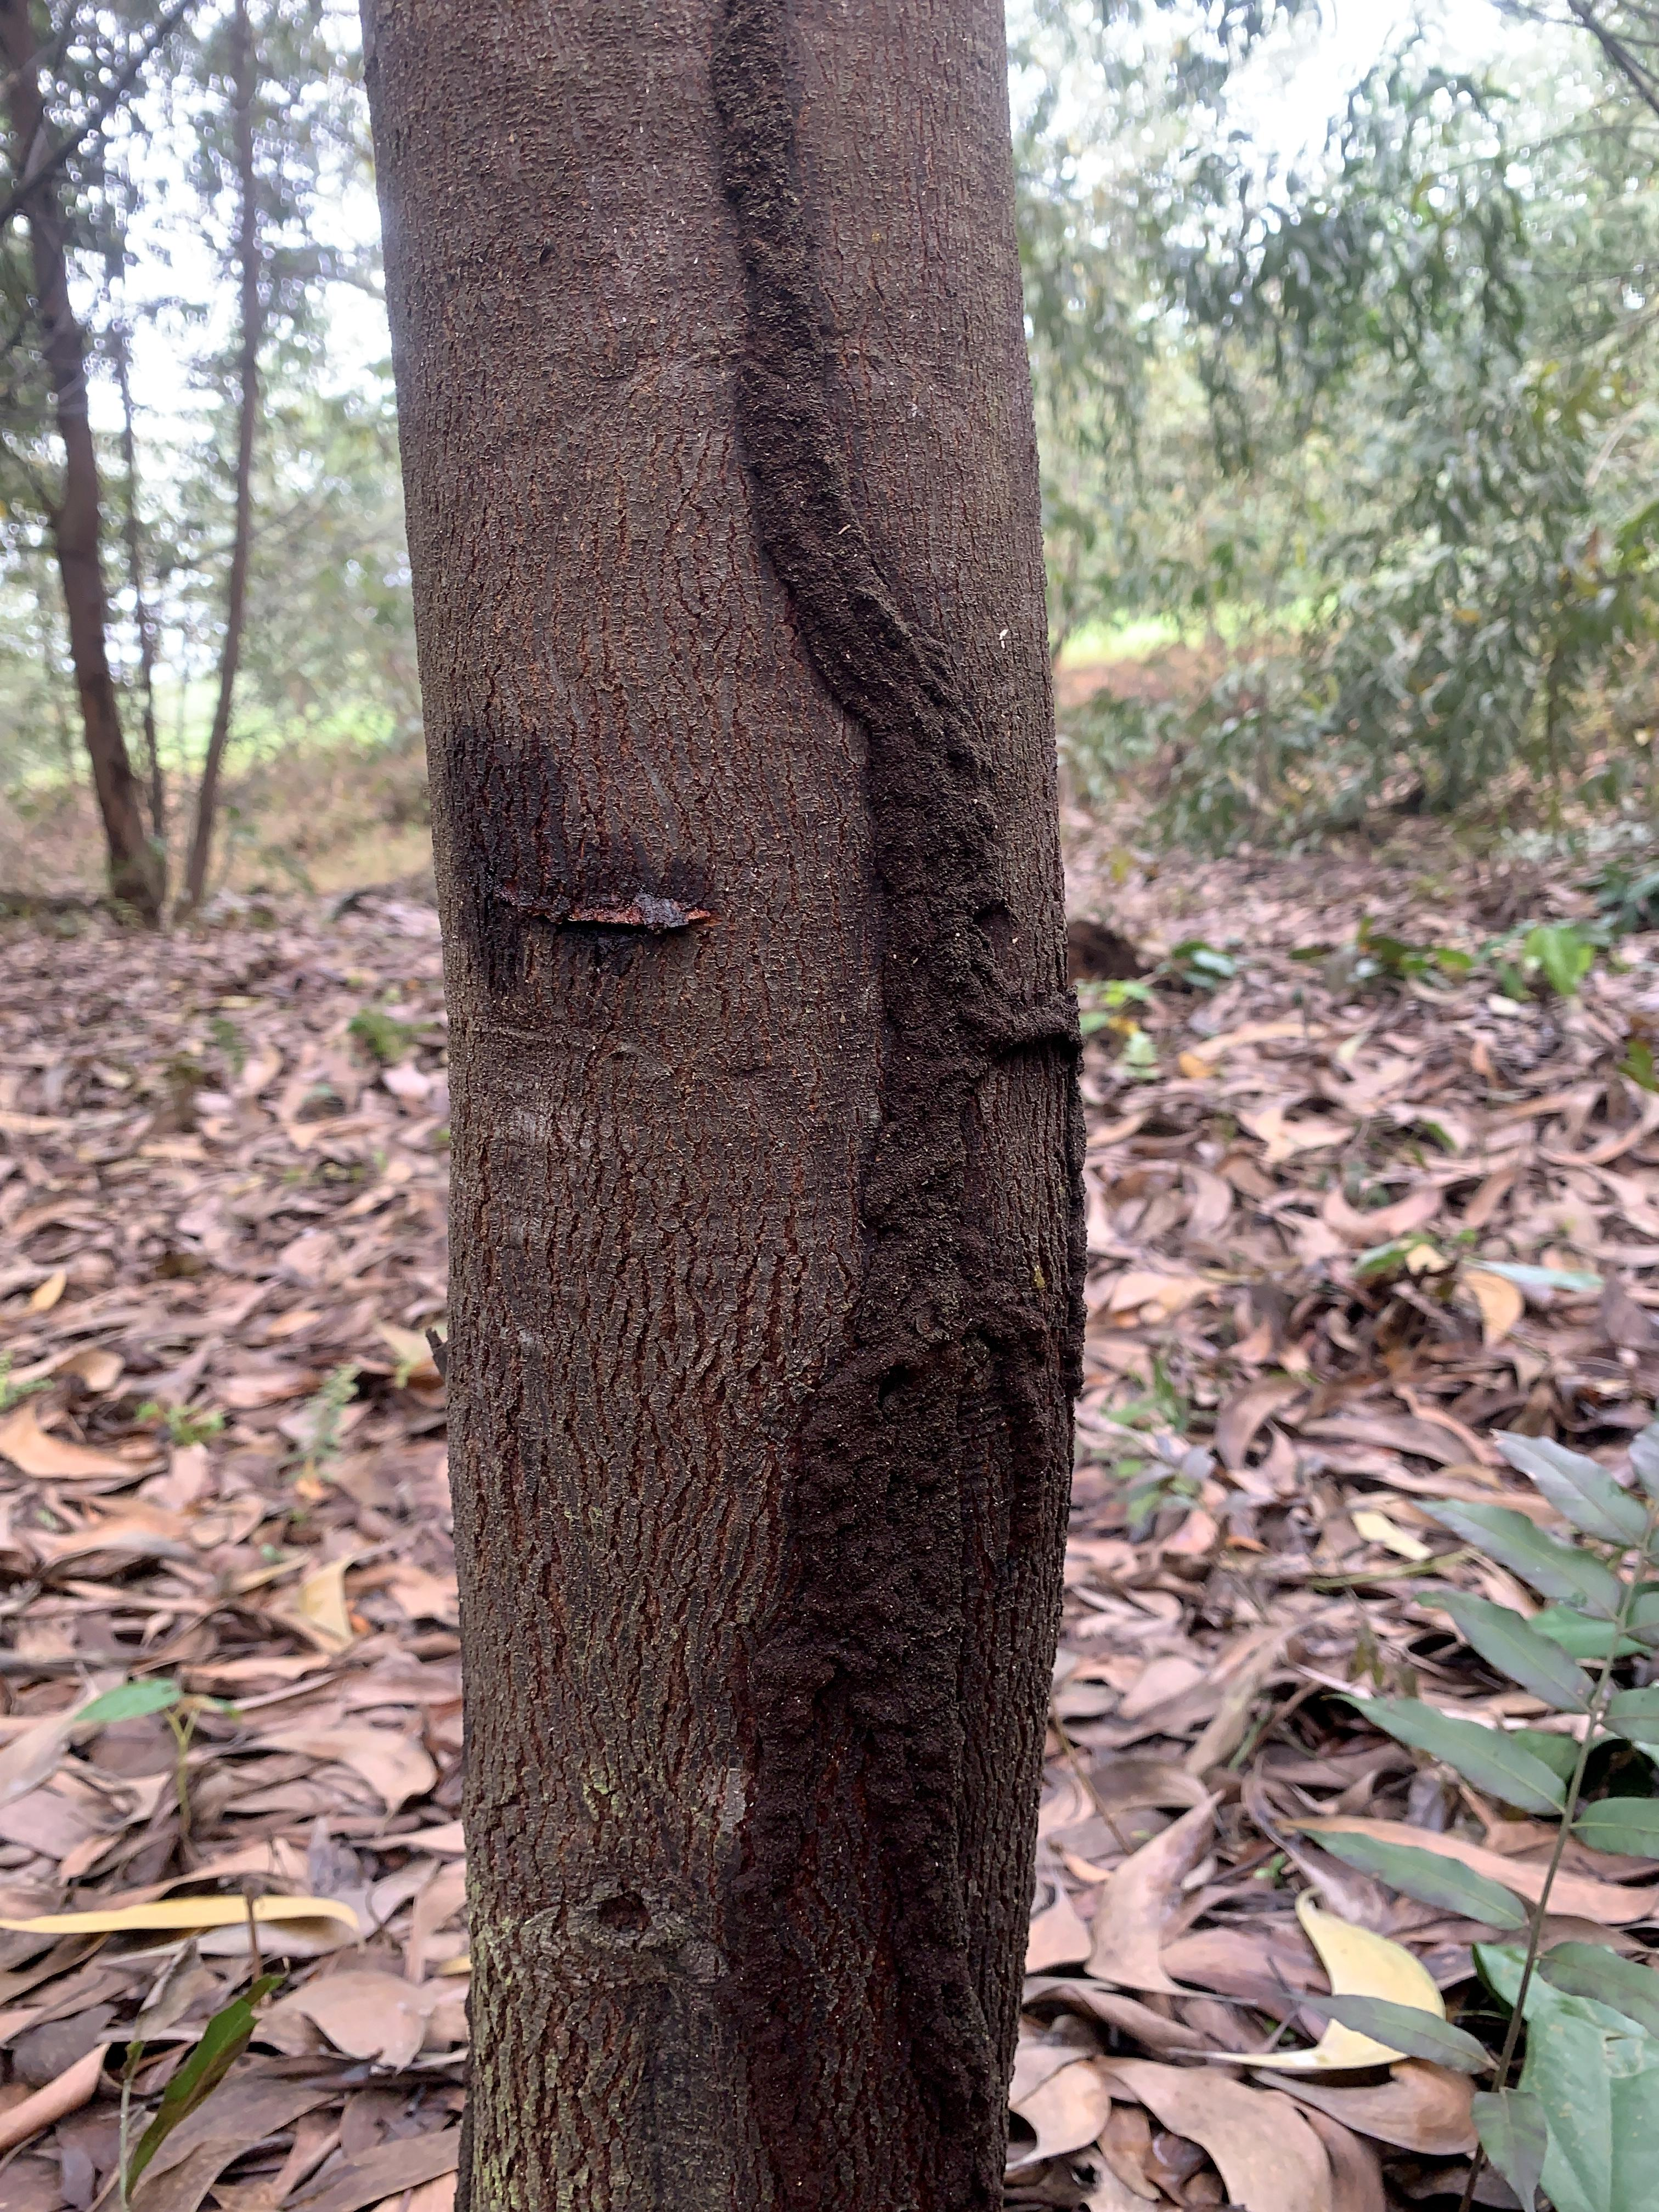Termite - Nest: (714, 369, 1047, 2212)
